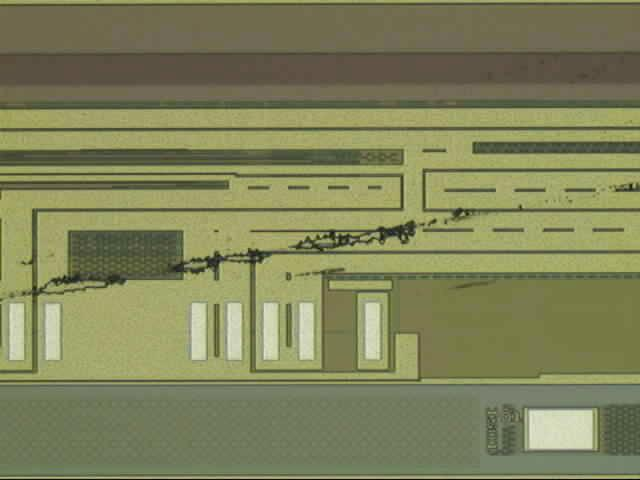SCRATCH: (2, 171, 640, 317)
